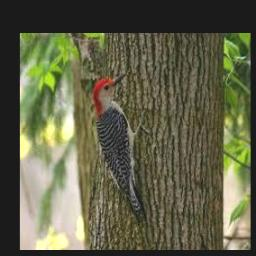Woodpecker: (93, 72, 150, 217)
